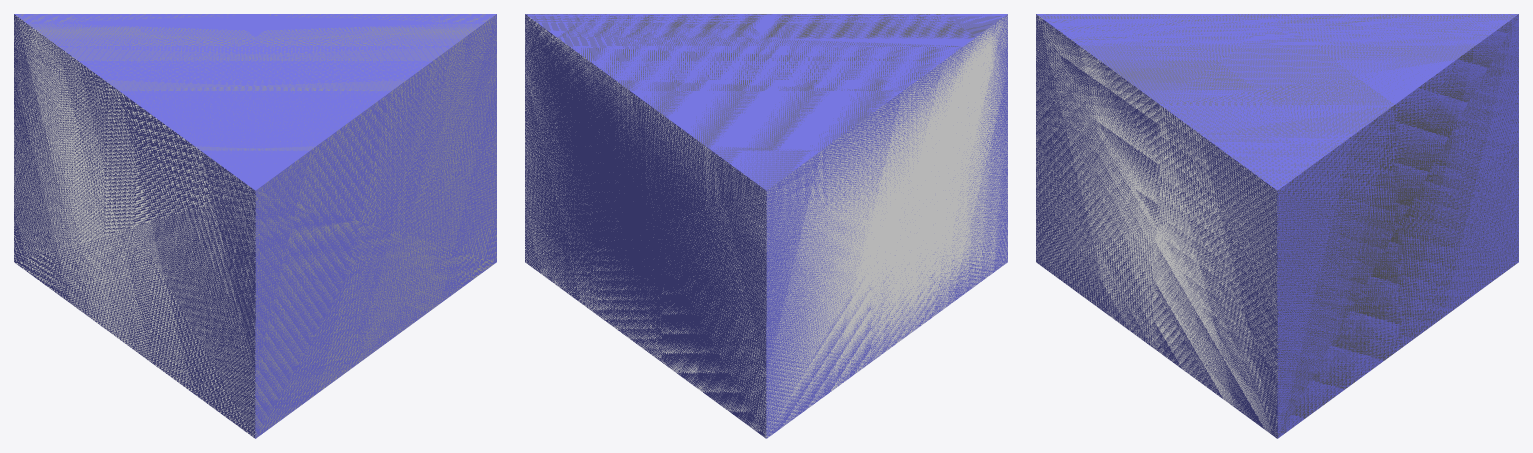
File: SM_Dummy_Triangle_Foundation.fbx
3 views of the same model, side by side, from view 1: azimuth 30°, elevation 25°; view 2: azimuth 150°, elevation 25°; view 3: azimuth 270°, elevation 25° (orthographic).
Parts seen in each view (by area): view 1: SM_Dummy_Triangle_Foundation, SM_Dummy_Triangle_Foundation_ConvexHulls; view 2: SM_Dummy_Triangle_Foundation, SM_Dummy_Triangle_Foundation_ConvexHulls; view 3: SM_Dummy_Triangle_Foundation, SM_Dummy_Triangle_Foundation_ConvexHulls.
Boxes of the visible parts, left/top/right/bottom form: SM_Dummy_Triangle_Foundation: left=14, top=14, right=496, bottom=438; SM_Dummy_Triangle_Foundation_ConvexHulls: left=14, top=14, right=496, bottom=438; SM_Dummy_Triangle_Foundation: left=525, top=14, right=1007, bottom=438; SM_Dummy_Triangle_Foundation_ConvexHulls: left=525, top=14, right=1007, bottom=438; SM_Dummy_Triangle_Foundation: left=1036, top=14, right=1518, bottom=438; SM_Dummy_Triangle_Foundation_ConvexHulls: left=1036, top=14, right=1518, bottom=438.
Bounding box in the file's own units: 260 × 300 × 170.
2 materials, 1 textured.
